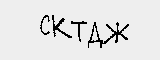Д: (86, 22, 107, 51)
Ж: (106, 20, 129, 46)
К: (50, 14, 71, 41)
С: (37, 13, 51, 37)
Т: (71, 18, 88, 42)
